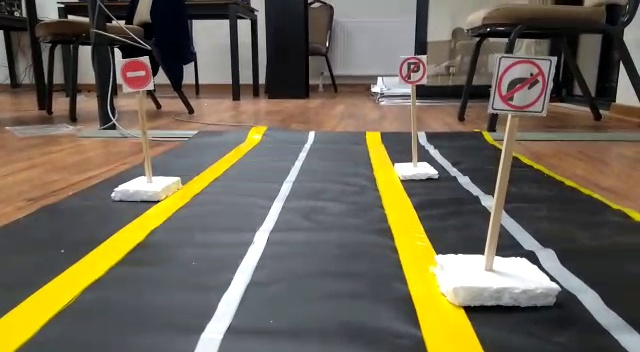girisi_olmayan_yol: (118, 56, 153, 93)
park_yapilmaz: (399, 54, 428, 85)
saga_donulmez: (495, 53, 548, 111)
